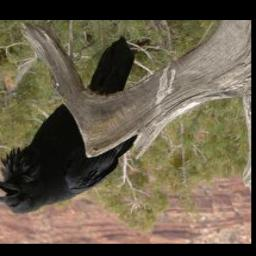Crow: (0, 35, 138, 215)
